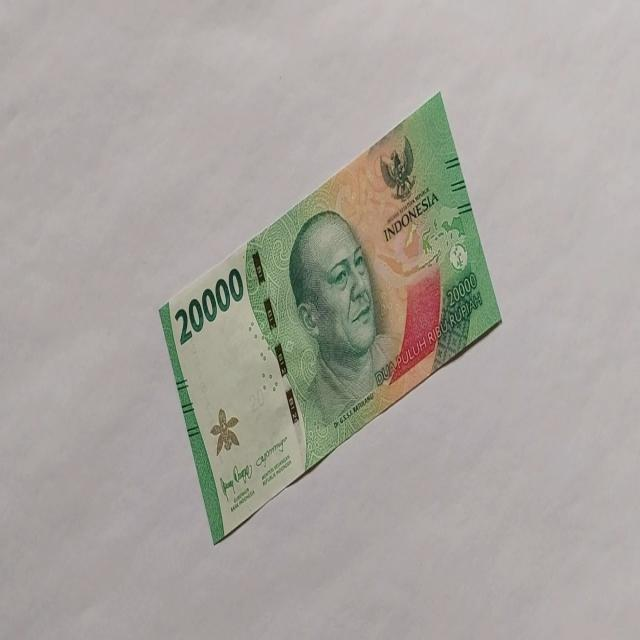dua puluh ribu rupiah: (158, 90, 502, 544), (286, 208, 399, 426), (174, 266, 244, 346)
